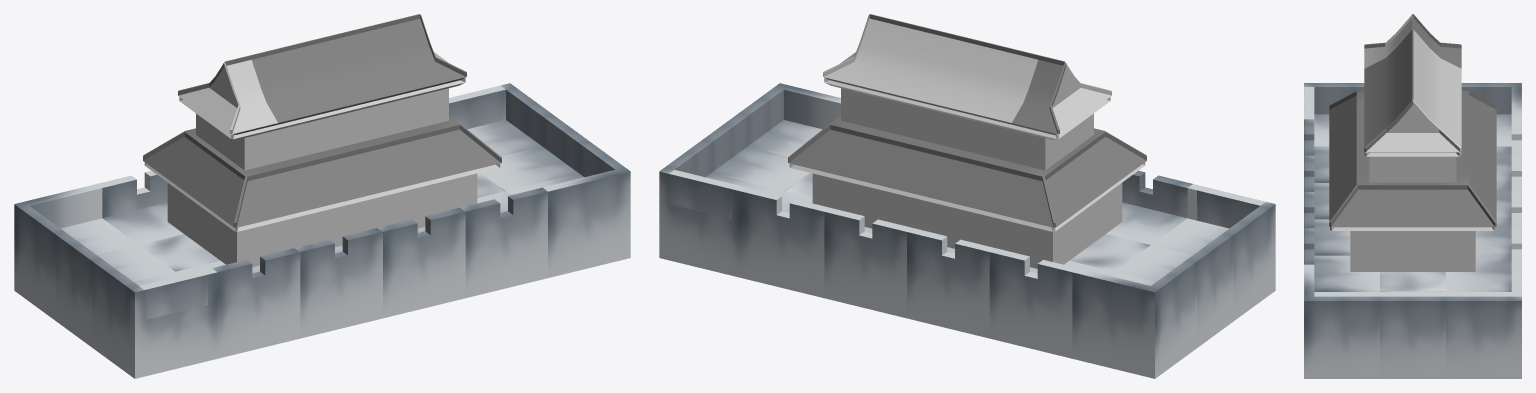
Rendered from building 2 (light).fbx.
The picture shows the model from 3 angles, left to right: view 1: azimuth 30°, elevation 25°; view 2: azimuth 150°, elevation 25°; view 3: azimuth 270°, elevation 25°; orthographic projection. The views are drawn at different scales.
Parts seen in each view (by area): view 1: Plane151; view 2: Plane151; view 3: Plane151.
Part boxes in pixels (box(x1,y1,x2,y2)): Plane151: box(14, 14, 630, 378); Plane151: box(659, 14, 1275, 378); Plane151: box(1304, 14, 1521, 378).
Bounding box in the file's own units: 273 × 124 × 115.
